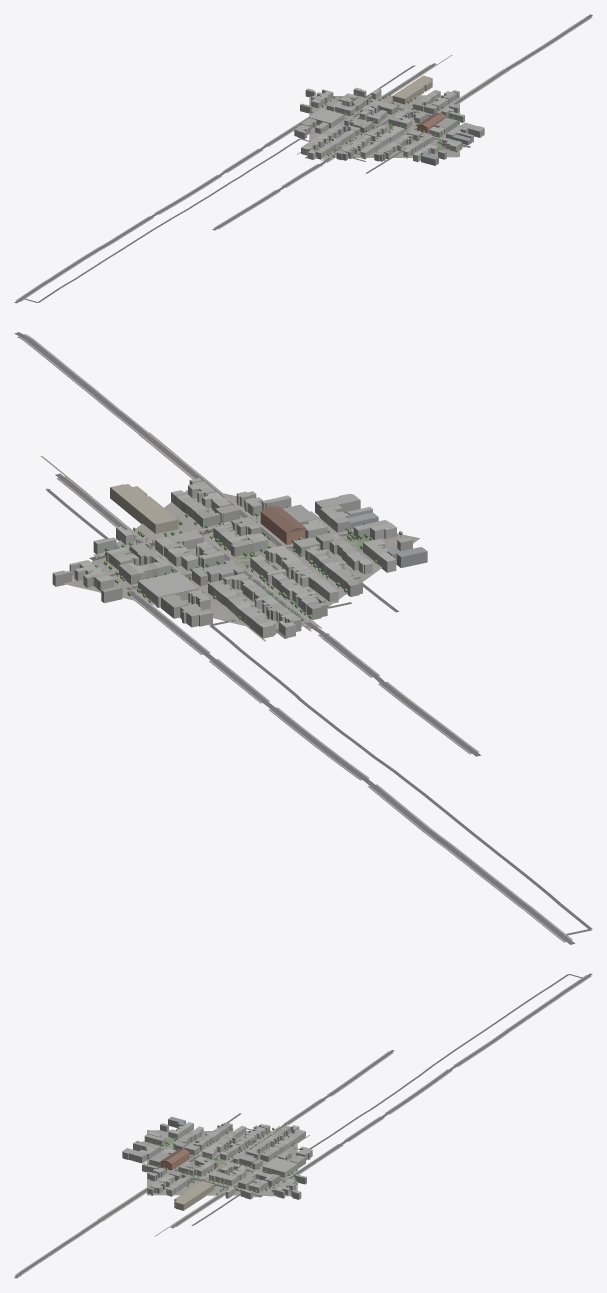
Rendered from tile_-7_-6.glb.
3 views of the same model, one above another, from view 1: azimuth 90°, elevation 25°; view 2: azimuth 150°, elevation 25°; view 3: azimuth 270°, elevation 25° (orthographic). The views are drawn at different scales.
Parts seen in each view (by area): view 1: buildings, roads, sidewalks, terrain, paths, props; view 2: buildings, roads, sidewalks, terrain, paths, props; view 3: buildings, roads, sidewalks, terrain, paths, props.
Part boxes in pixels (left/top/right/bottom): buildings: left=294, top=75, right=484, bottom=165; roads: left=14, top=14, right=592, bottom=303; sidewalks: left=15, top=16, right=592, bottom=301; terrain: left=309, top=95, right=459, bottom=158; paths: left=297, top=55, right=509, bottom=162; props: left=309, top=93, right=459, bottom=157; buildings: left=52, top=478, right=427, bottom=638; roads: left=14, top=332, right=592, bottom=944; sidewalks: left=17, top=334, right=572, bottom=942; terrain: left=63, top=490, right=419, bottom=635; paths: left=40, top=432, right=352, bottom=641; props: left=95, top=505, right=402, bottom=621; buildings: left=122, top=1116, right=312, bottom=1210; roads: left=14, top=973, right=592, bottom=1278; sidewalks: left=14, top=975, right=591, bottom=1276; terrain: left=147, top=1130, right=297, bottom=1196; paths: left=97, top=1126, right=310, bottom=1236; props: left=147, top=1127, right=297, bottom=1194.
Bounding box in the file's own units: 1196 × 19.78 × 985.
